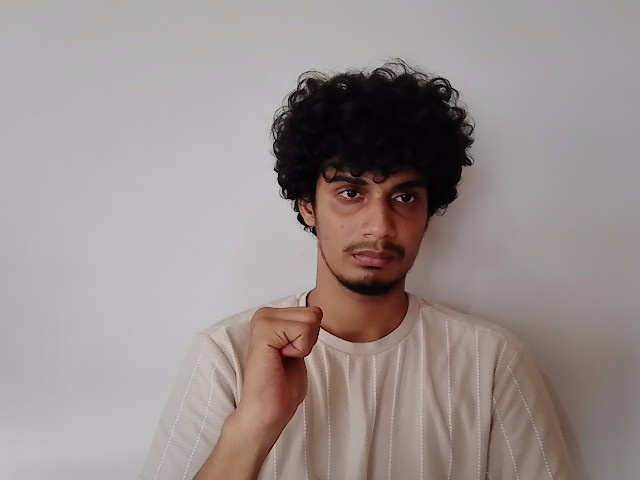how: (248, 306, 327, 416)
